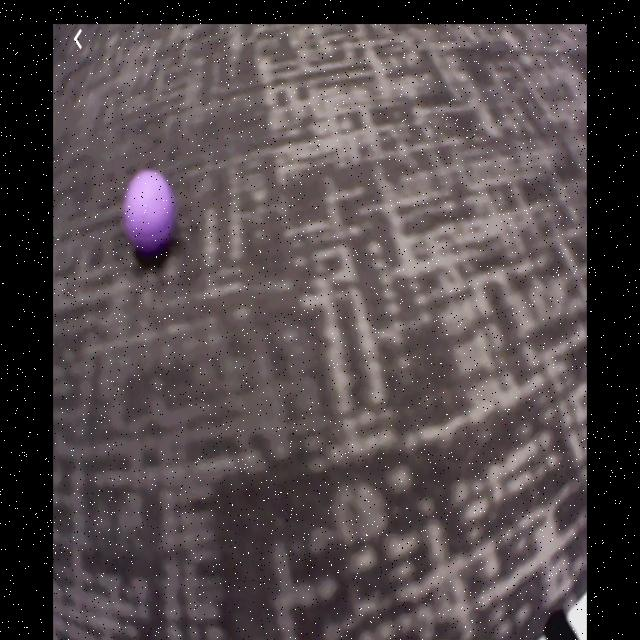ball: (125, 173, 174, 250)
